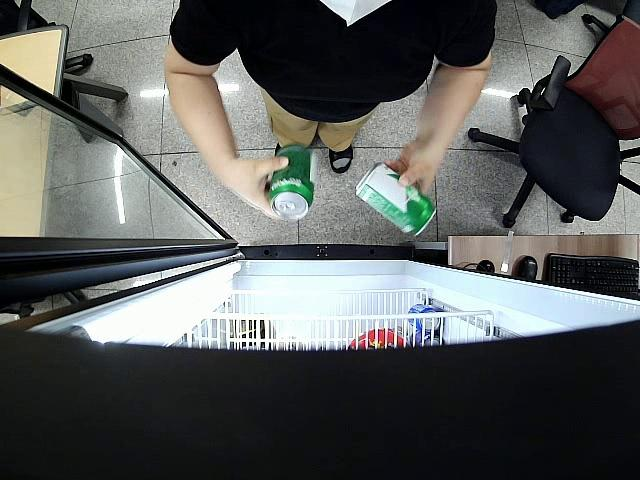00_hand: (221, 155, 290, 220), (383, 143, 445, 197)
12_chilsungCider: (355, 163, 438, 239), (266, 144, 315, 219)
